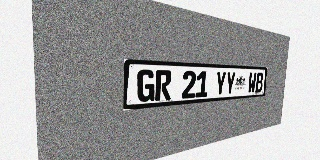1: (195, 71, 208, 98)
2: (182, 71, 196, 99)
B: (255, 72, 264, 93)
G: (137, 69, 155, 102)
R: (155, 70, 172, 101)
W: (247, 72, 257, 93)
Y: (215, 71, 226, 96), (225, 72, 236, 95)
